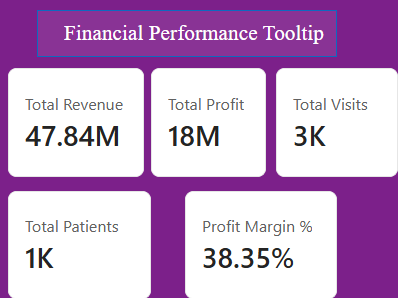

This screenshot's page, from the dashboard's own definition file:
{"tool":"powerbi","page":{"name":"Financial Tooltip","canvas":[400,300],"ordinal":6},"visuals":[{"type":"cardVisual","fields":{"Data":["Date_Table.Total Revenue"]},"box":[10,69,136,109],"z":0},{"type":"cardVisual","fields":{"Data":["Date_Table.Total Profit"]},"box":[153,69,115,109],"z":1000},{"type":"cardVisual","fields":{"Data":["Date_Table.Total Visits"]},"box":[278,69,122,109],"z":2000},{"type":"cardVisual","fields":{"Data":["Date_Table.Total Patients"]},"box":[10,192,143,108],"z":3000},{"type":"cardVisual","fields":{"Data":["Date_Table.Profit Margin %"]},"box":[187,192,152,108],"z":4000},{"type":"shape","box":[39,11,300,47],"z":4001},{"type":"textbox","box":[66,22,273,28],"z":4002}]}

Visuals, with their boxes in screenshot pixels (x1, y1, x2, y2), scaled from the page's 400x300 canvas onto the 398x298 screenshot:
cardVisual - Date_Table.Total Revenue: <box>10,69,145,177</box>
cardVisual - Date_Table.Total Profit: <box>152,69,267,177</box>
cardVisual - Date_Table.Total Visits: <box>277,69,397,177</box>
cardVisual - Date_Table.Total Patients: <box>10,191,152,297</box>
cardVisual - Date_Table.Profit Margin %: <box>186,191,337,297</box>
shape: <box>39,11,337,58</box>
textbox: <box>66,22,337,50</box>
